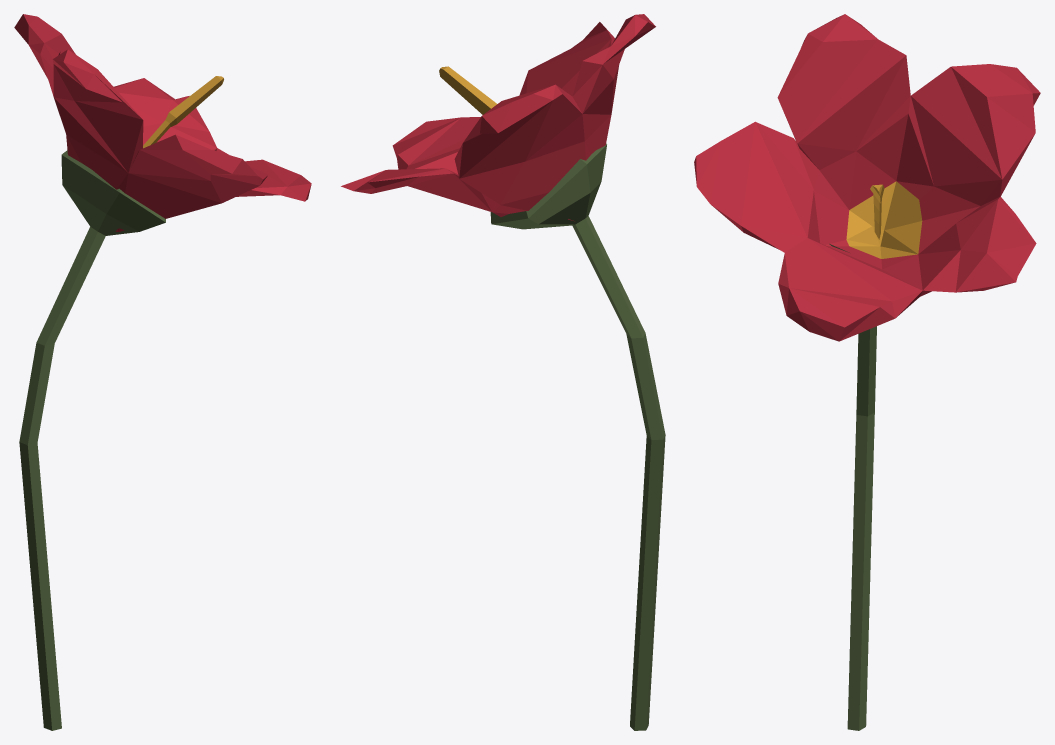
Rendered from SM_Envr_Nature_Plant_Flower_02.fbx.
3 renders of one model, left to right at view 1: azimuth 30°, elevation 25°; view 2: azimuth 150°, elevation 25°; view 3: azimuth 270°, elevation 25°, orthographic. The views are drawn at different scales.
Parts seen in each view (by area): view 1: SM_Envr_Nature_Plant_Flower_02; view 2: SM_Envr_Nature_Plant_Flower_02; view 3: SM_Envr_Nature_Plant_Flower_02.
Part boxes in pixels (bbox=[...]): SM_Envr_Nature_Plant_Flower_02: bbox=[14, 14, 311, 730]; SM_Envr_Nature_Plant_Flower_02: bbox=[341, 14, 665, 730]; SM_Envr_Nature_Plant_Flower_02: bbox=[694, 14, 1040, 730].
Bounding box in the file's own units: 26 × 62.24 × 27.25.
